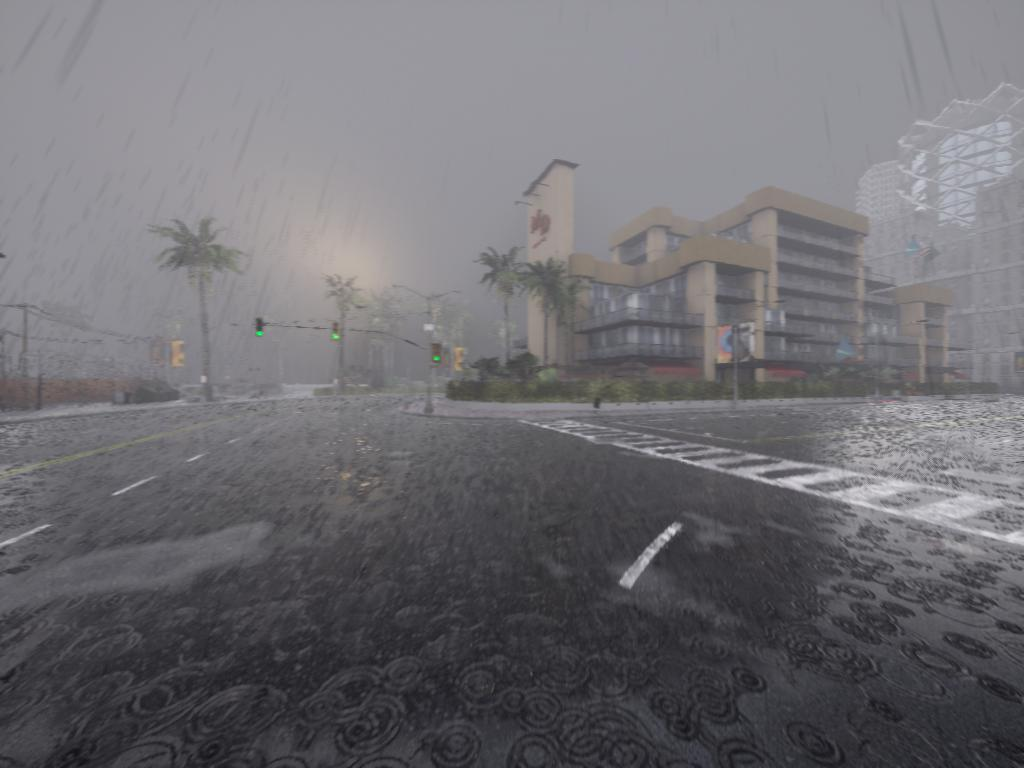traffic_light: (432, 347, 446, 367), (457, 349, 465, 374), (257, 320, 267, 338), (331, 324, 341, 342)
